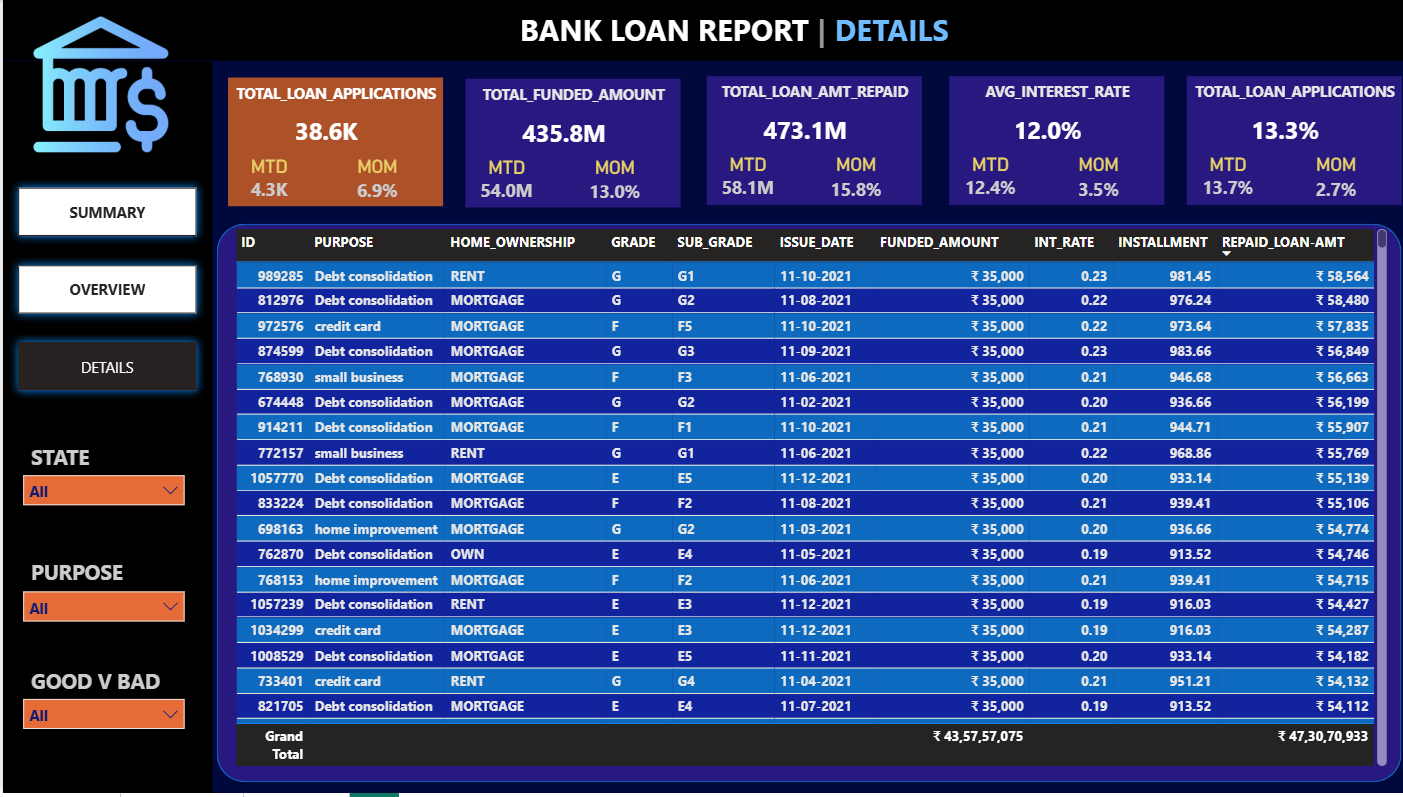

Layout of this report page (visuals, bound fields, positions):
{"tool":"powerbi","page":{"name":"DETAILS","canvas":[1280,720],"ordinal":2},"visuals":[{"type":"shape","box":[0,55.5,190,664.7],"z":0},{"type":"shape","box":[639.1,68.8,195.4,117],"z":0,"group":"g5"},{"type":"shape","box":[859,68.8,195.4,117],"z":0,"group":"g3"},{"type":"shape","box":[1073.7,69,195.4,117],"z":0,"group":"g4"},{"type":"shape","box":[203.9,70,195.4,117],"z":0,"group":"g1"},{"type":"shape","box":[419.8,71.2,195.4,117],"z":0,"group":"g2"},{"type":"shape","box":[0,0,1280,55],"z":1000},{"type":"card","fields":{"Values":["Bank_Loan_DB.TOTAL-REPAID_LOAN-AMT"]},"box":[676.5,97.8,103.8,42.2],"z":1000,"group":"g5"},{"type":"card","fields":{"Values":["Bank_Loan_DB.AVG_INTEREST-RATE"]},"box":[896.4,97.8,103.8,42.2],"z":1000,"group":"g3"},{"type":"card","fields":{"Values":["Bank_Loan_DB.AVERAGE_DTI_PERCENTAGE"]},"box":[1111.1,98,103.8,42.2],"z":1000,"group":"g4"},{"type":"card","fields":{"Values":["Bank_Loan_DB.TOTAL_LOAN_APPLICATION"]},"box":[241.3,99,103.8,42.2],"z":1000,"group":"g1"},{"type":"card","fields":{"Values":["Bank_Loan_DB.TOTAL_FUNDED_AMOUNT"]},"box":[457.2,100.2,103.8,42.2],"z":1000,"group":"g2"},{"type":"textbox","box":[431.9,3.6,463.3,48.3],"z":2000},{"type":"textbox","box":[640.3,68.8,194.2,35],"z":2000,"group":"g5"},{"type":"textbox","box":[860.2,68.8,194.2,35],"z":2000,"group":"g3"},{"type":"textbox","box":[1074.9,69,194.2,35],"z":2000,"group":"g4"},{"type":"textbox","box":[205.1,70,194.2,35],"z":2000,"group":"g1"},{"type":"textbox","box":[421,71.2,194.2,35],"z":2000,"group":"g2"},{"type":"group","id":"g1","title":"Group 1","box":[203.9,70,195.4,117],"z":3000},{"type":"card","title":"MTD","fields":{"Values":["Bank_Loan_DB.MTD_REPAID_AMOUNT"]},"box":[640.3,138.8,72.4,47.1],"z":3000,"group":"g5"},{"type":"card","title":"MTD","fields":{"Values":["Bank_Loan_DB.MTD_AVG_INTEREST"]},"box":[860.2,138.8,72.4,47.1],"z":3000,"group":"g3"},{"type":"card","title":"MTD","fields":{"Values":["Bank_Loan_DB.MTD_AVG_DTI"]},"box":[1074.9,139,72.4,47.1],"z":3000,"group":"g4"},{"type":"card","title":"MTD","fields":{"Values":["Bank_Loan_DB.MTD_LOAN_APPLICATIONS"]},"box":[205.1,140,72.4,47.1],"z":3000,"group":"g1"},{"type":"card","title":"MTD","fields":{"Values":["Bank_Loan_DB.MTD_FUNDED_AMOUNT"]},"box":[421,141.2,72.4,47.1],"z":3000,"group":"g2"},{"type":"group","id":"g2","title":"Group 1","box":[419.8,71.2,195.4,117],"z":4000},{"type":"card","title":"MOM","fields":{"Values":["Bank_Loan_DB.MOM_REPAID_AMOUNT"]},"box":[738,138.8,73.6,44.6],"z":4000,"group":"g5"},{"type":"card","title":"MOM","fields":{"Values":["Bank_Loan_DB.MOM_AVG_INTEREST"]},"box":[957.9,138.8,73.6,44.6],"z":4000,"group":"g3"},{"type":"card","title":"MOM","fields":{"Values":["Bank_Loan_DB.MOM_AVG_DTI"]},"box":[1172.6,139,73.6,44.6],"z":4000,"group":"g4"},{"type":"card","title":"MOM","fields":{"Values":["Bank_Loan_DB.MOM_TOTAL_APPLICATION"]},"box":[302.8,140,73.6,44.6],"z":4000,"group":"g1"},{"type":"card","title":"MOM","fields":{"Values":["Bank_Loan_DB.MOM_FUNDED_AMOUNT"]},"box":[518.7,141.2,73.6,44.6],"z":4000,"group":"g2"},{"type":"group","id":"g3","title":"Group 1","box":[859,68.8,195.4,117],"z":5000},{"type":"group","id":"g4","title":"Group 1","box":[1073.7,69,195.4,117],"z":6000},{"type":"group","id":"g5","title":"Group 1","box":[639.1,68.8,195.4,117],"z":7000},{"type":"slicer","fields":{"Values":["Bank_Loan_DB.address_state"]},"box":[8.4,421,166.5,54.3],"z":8000},{"type":"textbox","box":[20.5,396.9,112.2,35],"z":9000},{"type":"slicer","fields":{"Values":["Bank_Loan_DB.GOOD_LOAN V BAD_LOAN"]},"box":[8.4,623.7,166.5,54.3],"z":10000},{"type":"textbox","box":[20.5,599.6,168.9,35],"z":11000},{"type":"slicer","fields":{"Values":["Bank_Loan_DB.purpose"]},"box":[8.4,526,166.5,54.3],"z":12000},{"type":"textbox","box":[20.5,501.9,112.2,35],"z":13000},{"type":"shape","box":[194.2,202.7,1074.9,506.7],"z":14000},{"type":"tableEx","fields":{"Values":["Bank_Loan_DB.id","Bank_Loan_DB.purpose","Bank_Loan_DB.home_ownership","Bank_Loan_DB.grade","Bank_Loan_DB.sub_grade","Bank_Loan_DB.issue_date","Bank_Loan_DB.TOTAL_FUNDED_AMOUNT","Bank_Loan_DB.int_rate","Bank_Loan_DB.installment","Bank_Loan_DB.TOTAL-REPAID_LOAN-AMT"]},"box":[205.1,202.7,1055.6,497.1],"z":15000},{"type":"image","box":[20.5,9.7,136.3,132.7],"z":16000},{"type":"pageNavigator","box":[6,161.7,178.6,202.7],"z":17000}]}

Visuals, with their boxes in screenshot pixels (x1, y1, x2, y2), scaled from the page's 1280x720 canvas onto the 1403x797 screenshot:
shape: locate(0, 61, 208, 796)
shape: locate(701, 76, 915, 206)
shape: locate(942, 76, 1156, 206)
shape: locate(1177, 76, 1391, 206)
shape: locate(223, 77, 438, 207)
shape: locate(460, 79, 674, 208)
shape: locate(0, 0, 1402, 61)
card - Bank_Loan_DB.TOTAL-REPAID_LOAN-AMT: locate(742, 108, 855, 155)
card - Bank_Loan_DB.AVG_INTEREST-RATE: locate(983, 108, 1096, 155)
card - Bank_Loan_DB.AVERAGE_DTI_PERCENTAGE: locate(1218, 108, 1332, 155)
card - Bank_Loan_DB.TOTAL_LOAN_APPLICATION: locate(264, 110, 378, 156)
card - Bank_Loan_DB.TOTAL_FUNDED_AMOUNT: locate(501, 111, 615, 158)
textbox: locate(473, 4, 981, 57)
textbox: locate(702, 76, 915, 115)
textbox: locate(943, 76, 1156, 115)
textbox: locate(1178, 76, 1391, 115)
textbox: locate(225, 77, 438, 116)
textbox: locate(461, 79, 674, 118)
"Group 1" group: locate(223, 77, 438, 207)
"MTD" card: locate(702, 154, 781, 206)
"MTD" card: locate(943, 154, 1022, 206)
"MTD" card: locate(1178, 154, 1258, 206)
"MTD" card: locate(225, 155, 304, 207)
"MTD" card: locate(461, 156, 541, 208)
"Group 1" group: locate(460, 79, 674, 208)
"MOM" card: locate(809, 154, 890, 203)
"MOM" card: locate(1050, 154, 1131, 203)
"MOM" card: locate(1285, 154, 1366, 203)
"MOM" card: locate(332, 155, 413, 204)
"MOM" card: locate(569, 156, 649, 206)
"Group 1" group: locate(942, 76, 1156, 206)
"Group 1" group: locate(1177, 76, 1391, 206)
"Group 1" group: locate(701, 76, 915, 206)
slicer - Bank_Loan_DB.address_state: locate(9, 466, 192, 526)
textbox: locate(22, 439, 145, 478)
slicer - Bank_Loan_DB.GOOD_LOAN V BAD_LOAN: locate(9, 690, 192, 751)
textbox: locate(22, 664, 208, 702)
slicer - Bank_Loan_DB.purpose: locate(9, 582, 192, 642)
textbox: locate(22, 556, 145, 594)
shape: locate(213, 224, 1391, 785)
tableEx - Bank_Loan_DB.id x Bank_Loan_DB.purpose: locate(225, 224, 1382, 775)
image: locate(22, 11, 172, 158)
pageNavigator: locate(7, 179, 202, 403)
